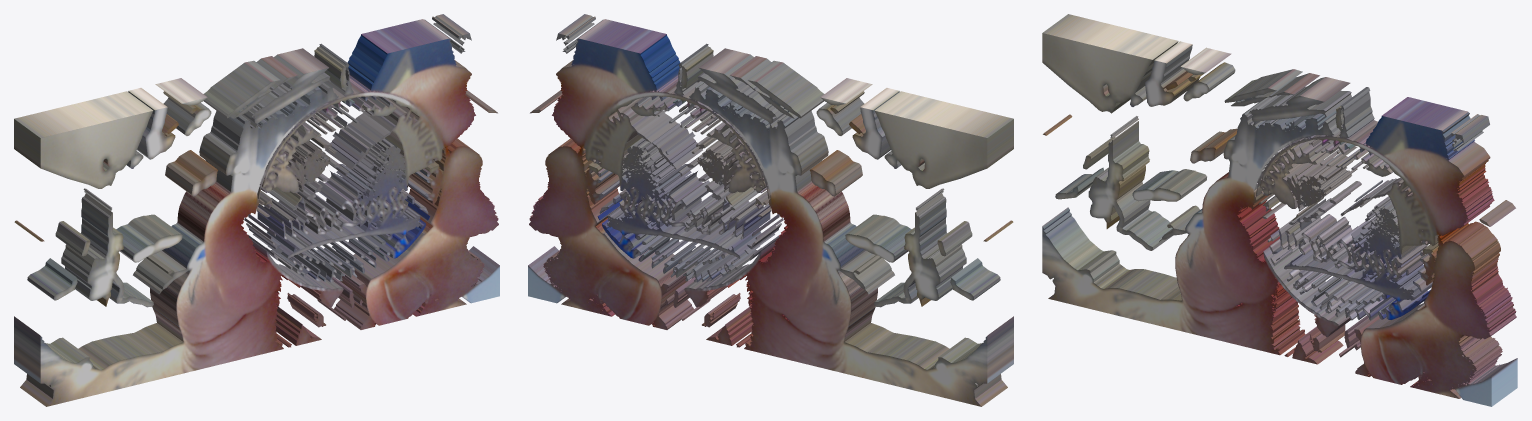
File: Builder20220304031908.obj
3 renders of one model, left to right at view 1: azimuth 30°, elevation 25°; view 2: azimuth 150°, elevation 25°; view 3: azimuth 330°, elevation 25°, orthographic. The views are drawn at different scales.
Visible parts, largest first — view 1: Object.1, Object.17, Object.16, Object.94, Object.2, Object.15, Object.65, Object.19, Object.35, Object.66, Object.84, Object.99 (+5 smaller); view 2: Object.1, Object.17, Object.16, Object.94, Object.2, Object.15, Object.65, Object.19, Object.35, Object.66, Object.84, Object.99 (+5 smaller); view 3: Object.1, Object.17, Object.16, Object.15, Object.94, Object.2, Object.35, Object.66, Object.65, Object.84, Object.99, Object.96 (+4 smaller).
Boxes of the visible parts, x1,y1,x2,y2 form: Object.1: [14, 19, 499, 406]; Object.17: [14, 91, 153, 188]; Object.16: [61, 193, 153, 307]; Object.94: [203, 56, 297, 118]; Object.2: [116, 214, 182, 262]; Object.15: [128, 88, 178, 159]; Object.65: [165, 150, 218, 196]; Object.19: [27, 258, 77, 300]; Object.35: [296, 192, 341, 234]; Object.66: [163, 97, 211, 135]; Object.84: [274, 306, 321, 345]; Object.99: [155, 78, 207, 105]; Object.1: [528, 19, 1013, 406]; Object.17: [874, 91, 1013, 188]; Object.16: [874, 193, 966, 307]; Object.94: [730, 56, 824, 118]; Object.2: [845, 214, 911, 262]; Object.15: [849, 88, 899, 159]; Object.65: [809, 150, 862, 196]; Object.19: [950, 258, 1000, 300]; Object.35: [686, 192, 731, 234]; Object.66: [816, 97, 864, 135]; Object.84: [706, 306, 753, 345]; Object.99: [820, 78, 872, 105]; Object.1: [1042, 77, 1517, 406]; Object.17: [1042, 14, 1178, 113]; Object.16: [1088, 121, 1172, 250]; Object.15: [1145, 41, 1200, 106]; Object.94: [1224, 69, 1319, 106]; Object.2: [1132, 169, 1206, 201]; Object.35: [1301, 214, 1357, 262]; Object.66: [1183, 62, 1235, 101]; Object.65: [1190, 128, 1237, 163]; Object.84: [1292, 326, 1343, 364]; Object.99: [1180, 47, 1231, 74]; Object.96: [1451, 114, 1489, 143].
Bounding box in the file's own units: 245 × 138 × 24.54.
1 material, 1 textured.
